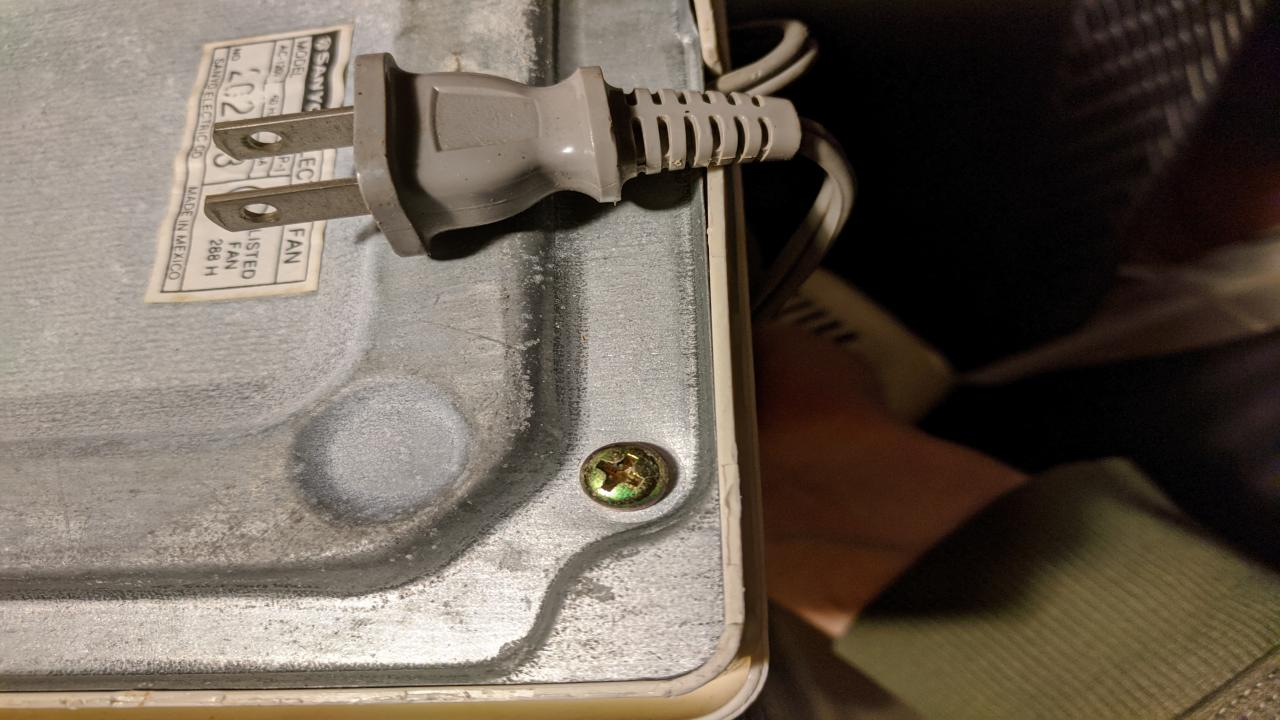CRS: (579, 444, 663, 502)
